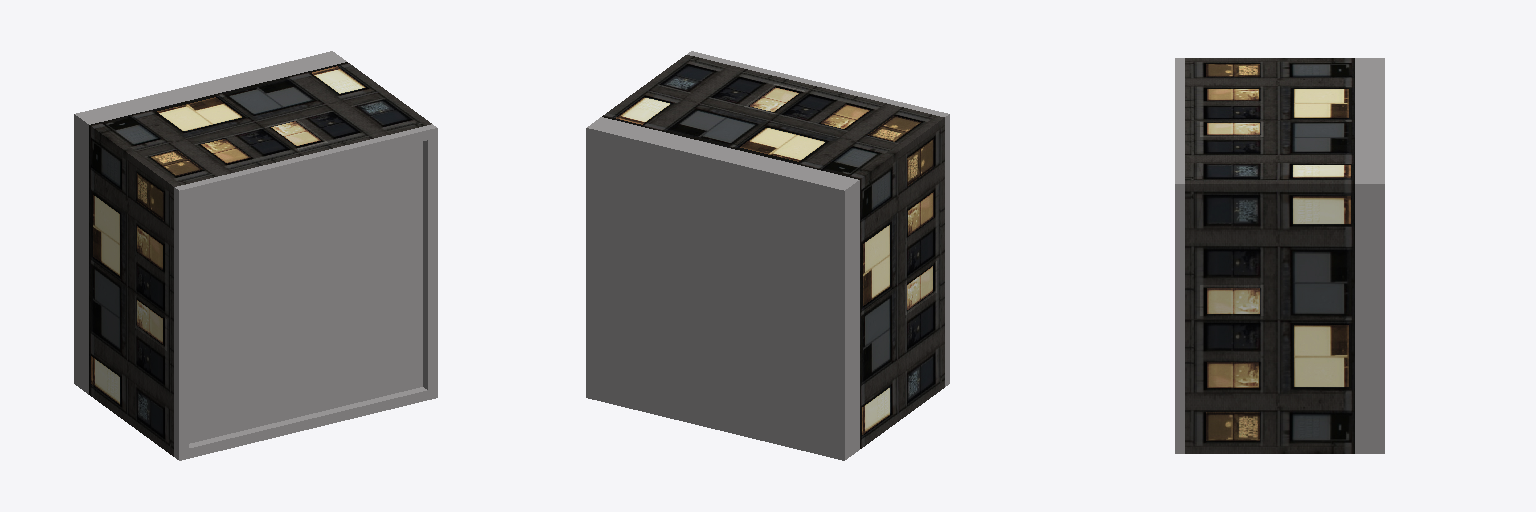
3 renders of one model, left to right at view 1: azimuth 30°, elevation 25°; view 2: azimuth 150°, elevation 25°; view 3: azimuth 270°, elevation 25°, orthographic.
Visible parts, largest first — view 1: object_8, object_6, object_5, object_7, object_1; view 2: object_1, object_6, object_5, object_7; view 3: object_4, object_5, object_1, object_7.
Boxes of the visible parts, x1=… form: object_8: x1=189, y1=142, x2=422, y2=443; object_6: x1=89, y1=125, x2=173, y2=456; object_5: x1=90, y1=62, x2=431, y2=186; object_7: x1=174, y1=124, x2=437, y2=460; object_1: x1=74, y1=51, x2=346, y2=394; object_1: x1=586, y1=117, x2=859, y2=460; object_6: x1=860, y1=118, x2=944, y2=448; object_5: x1=602, y1=55, x2=944, y2=179; object_7: x1=687, y1=51, x2=949, y2=386; object_4: x1=1185, y1=184, x2=1354, y2=453; object_5: x1=1185, y1=58, x2=1354, y2=183; object_1: x1=1355, y1=58, x2=1384, y2=453; object_7: x1=1175, y1=58, x2=1184, y2=453.
Bounding box in the file's own units: 3.19 × 3.19 × 2.25.
Materials: 3 (1 with a texture image).